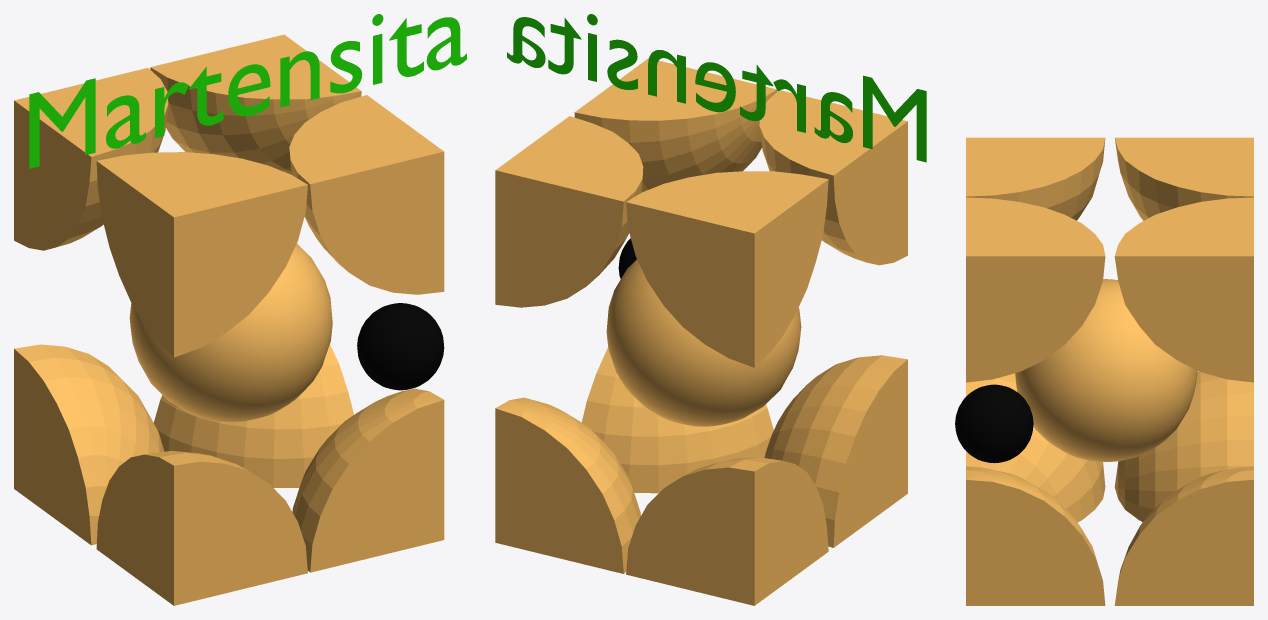
The model's file is martensita.glb.
The picture shows the model from 3 angles, left to right: view 1: azimuth 30°, elevation 25°; view 2: azimuth 150°, elevation 25°; view 3: azimuth 270°, elevation 25°; orthographic projection. The views are drawn at different scales.
Parts seen in each view (by area): view 1: Sphere.292_Sphere.001, Sphere.291_Sphere.001, Sphere.294_Sphere.001, Sphere.293_Sphere.001, Sphere.295_Sphere.001, Sphere.302_Sphere.001, Sphere.296_Sphere.001, Sphere.298_Sphere.001, Sphere.297_Sphere.001, Text.002, Sphere.001; view 2: Sphere.296_Sphere.001, Sphere.295_Sphere.001, Sphere.298_Sphere.001, Sphere.297_Sphere.001, Sphere.291_Sphere.001, Sphere.302_Sphere.001, Sphere.292_Sphere.001, Sphere.294_Sphere.001, Sphere.293_Sphere.001, Text.002; view 3: Sphere.294_Sphere.001, Sphere.298_Sphere.001, Sphere.302_Sphere.001, Sphere.293_Sphere.001, Sphere.297_Sphere.001, Sphere.295_Sphere.001, Sphere.292_Sphere.001, Sphere.296_Sphere.001, Sphere.291_Sphere.001, Sphere.001.
Part boxes in pixels (x1,y1,x2,y2): Sphere.292_Sphere.001: (96,152,307,357); Sphere.291_Sphere.001: (96,451,307,605); Sphere.294_Sphere.001: (289,95,444,294); Sphere.293_Sphere.001: (292,388,444,572); Sphere.295_Sphere.001: (14,344,164,545); Sphere.302_Sphere.001: (129,243,332,422); Sphere.296_Sphere.001: (14,68,168,250); Sphere.298_Sphere.001: (150,34,361,174); Sphere.297_Sphere.001: (154,344,353,487); Text.002: (29,14,466,168); Sphere.001: (357,303,444,390); Sphere.296_Sphere.001: (626,171,828,367); Sphere.295_Sphere.001: (626,457,828,605); Sphere.298_Sphere.001: (495,116,643,307); Sphere.297_Sphere.001: (495,397,640,573); Sphere.291_Sphere.001: (764,355,907,547); Sphere.302_Sphere.001: (606,259,801,426); Sphere.292_Sphere.001: (759,90,907,265); Sphere.294_Sphere.001: (574,58,776,192); Sphere.293_Sphere.001: (581,347,773,493); Text.002: (507,14,926,162); Sphere.294_Sphere.001: (966,197,1105,382); Sphere.298_Sphere.001: (1114,197,1253,382); Sphere.302_Sphere.001: (1015,279,1197,462); Sphere.293_Sphere.001: (966,466,1105,605); Sphere.297_Sphere.001: (1114,466,1253,605); Sphere.295_Sphere.001: (1114,371,1253,521); Sphere.292_Sphere.001: (966,137,1105,220); Sphere.296_Sphere.001: (1114,137,1253,220); Sphere.291_Sphere.001: (966,373,1105,522); Sphere.001: (955,384,1033,463).
Size of the model in its own units: 6.48 by 6.87 by 4.26.
